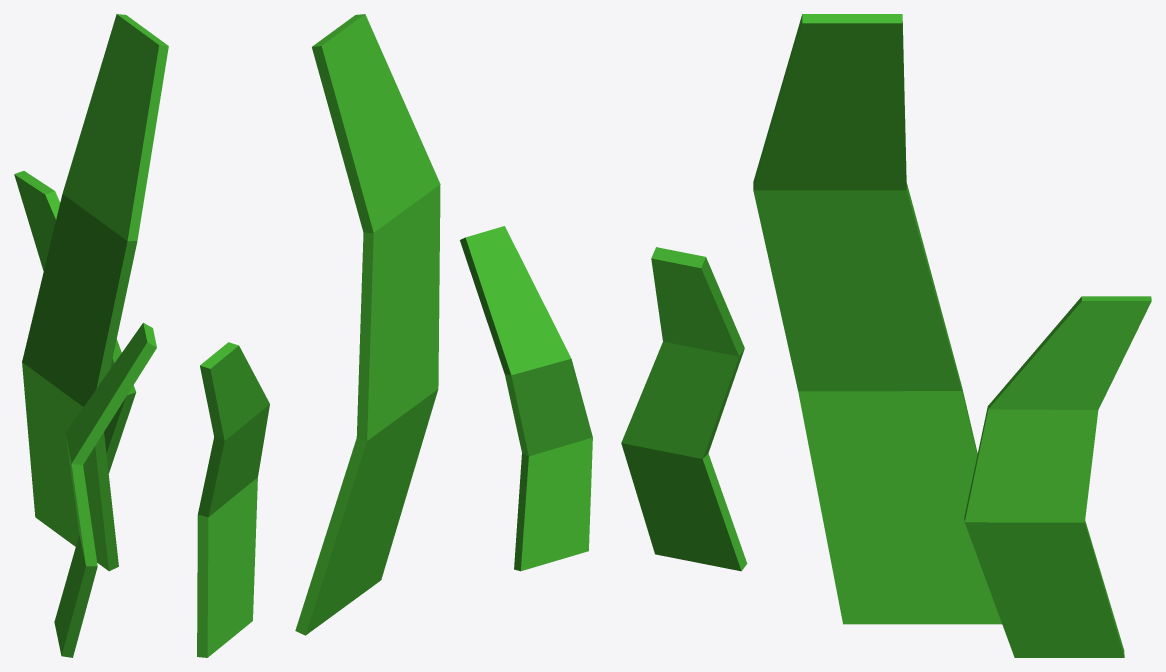
Rendered from Grass_1.fbx.
3 renders of one model, left to right at view 1: azimuth 30°, elevation 25°; view 2: azimuth 150°, elevation 25°; view 3: azimuth 270°, elevation 25°, orthographic. The views are drawn at different scales.
Visible parts, largest first — view 1: Grass_1; view 2: Grass_1; view 3: Grass_1.
Boxes of the visible parts, <box> form: Grass_1: <box>14,14,168,657</box>; Grass_1: <box>197,14,592,657</box>; Grass_1: <box>621,14,1151,657</box>.
Size of the model in its own units: 22.41 by 55.99 by 42.85.
